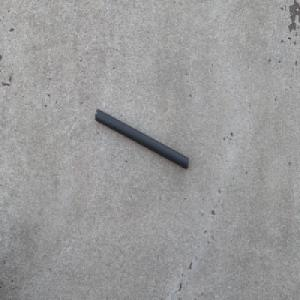LuggagePart: (94, 108, 189, 170)
